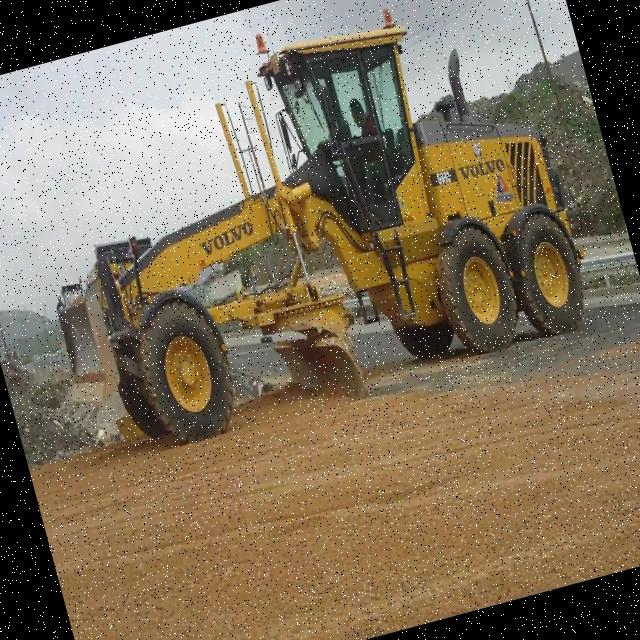Grader: (0, 0, 616, 480)
